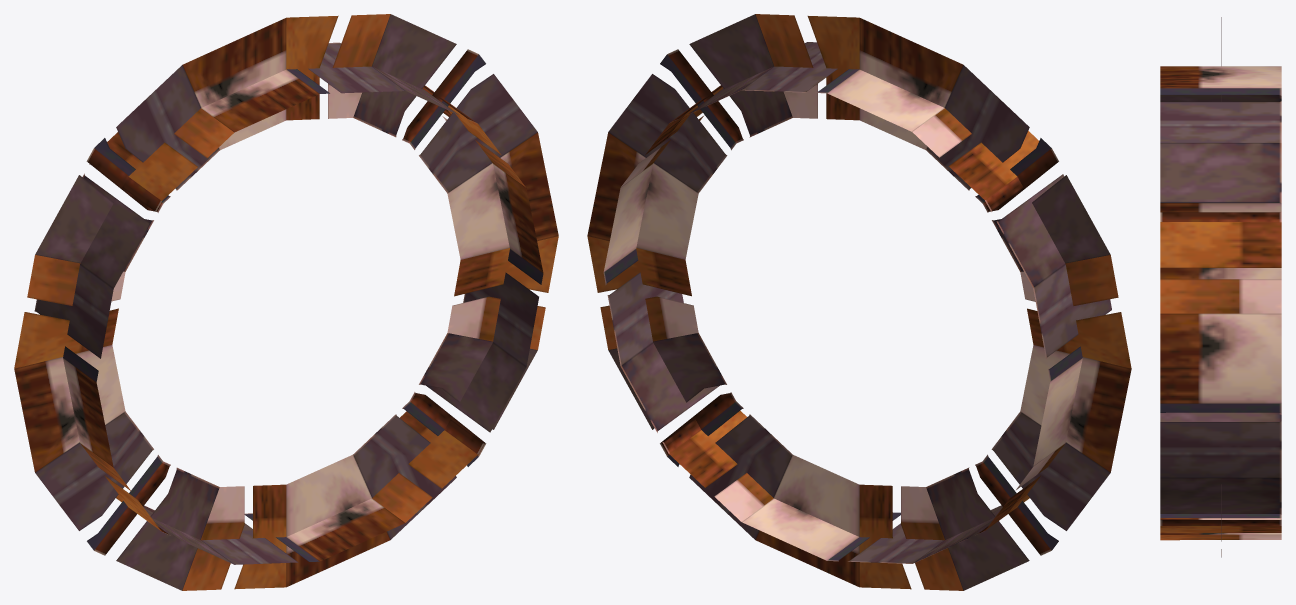
3 renders of one model, left to right at view 1: azimuth 30°, elevation 25°; view 2: azimuth 150°, elevation 25°; view 3: azimuth 270°, elevation 25°, orthographic. The views are drawn at different scales.
Parts seen in each view (by area): view 1: T1L2M007_25; view 2: T1L2M007_25; view 3: T1L2M007_25.
Boxes of the visible parts, x1,y1,x2,y2 form: T1L2M007_25: (14, 14, 558, 590); T1L2M007_25: (587, 14, 1131, 590); T1L2M007_25: (1160, 17, 1281, 557).
Size of the model in its own units: 2.83 by 2.83 by 0.5957.
